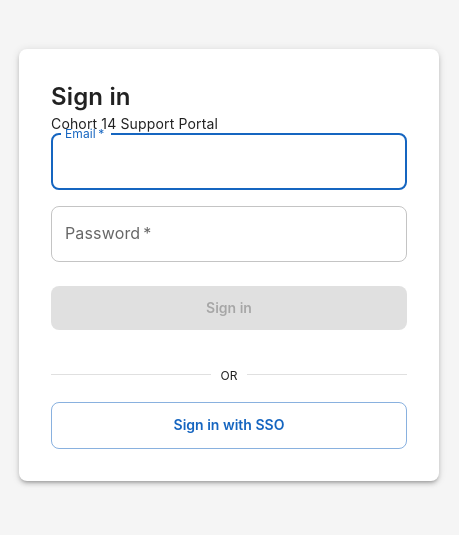
Test: LoginPage › shows an error alert when the server returns 401
The image size is (459, 535).
Type "a@b.com" into the field labelled "Email *" at (229, 162), box [51, 134, 407, 190]
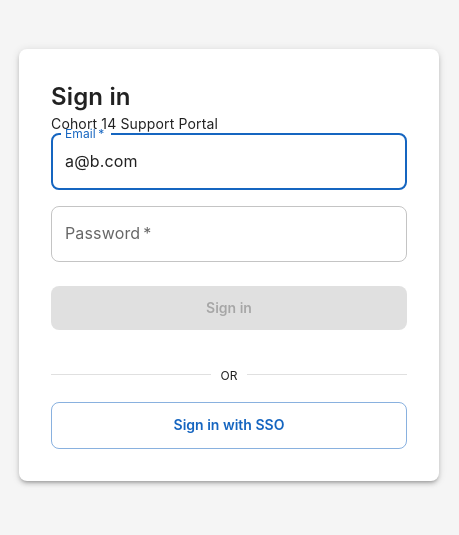
Type "wrong" into the password field labelled "Password *" at (229, 234), box [51, 206, 407, 262]
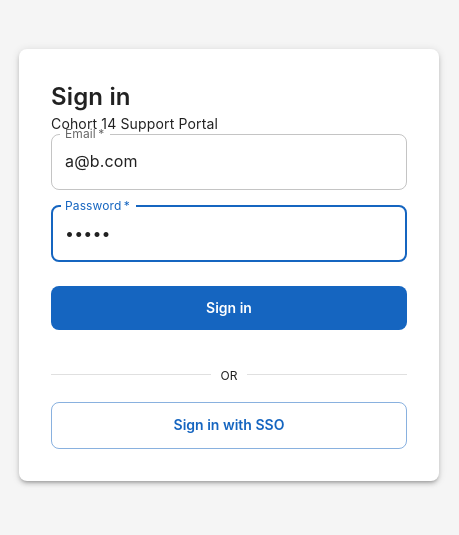
Click the button "Sign in" at (229, 308), box [51, 286, 407, 330]
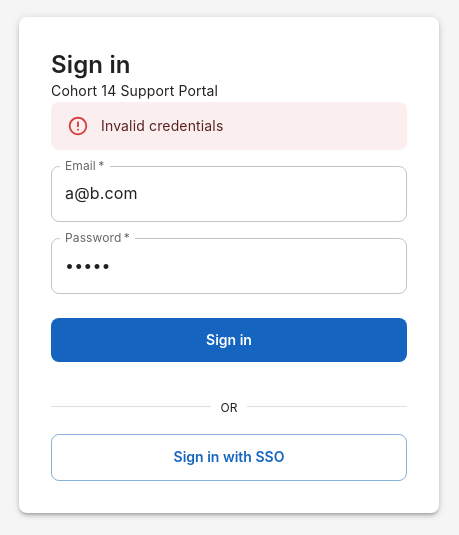
Result: the message reads "Invalid credentials" at [101, 116, 224, 134]
